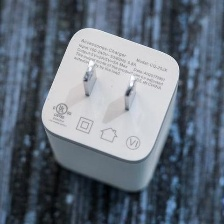three_eye_plug: (38, 23, 182, 198)
